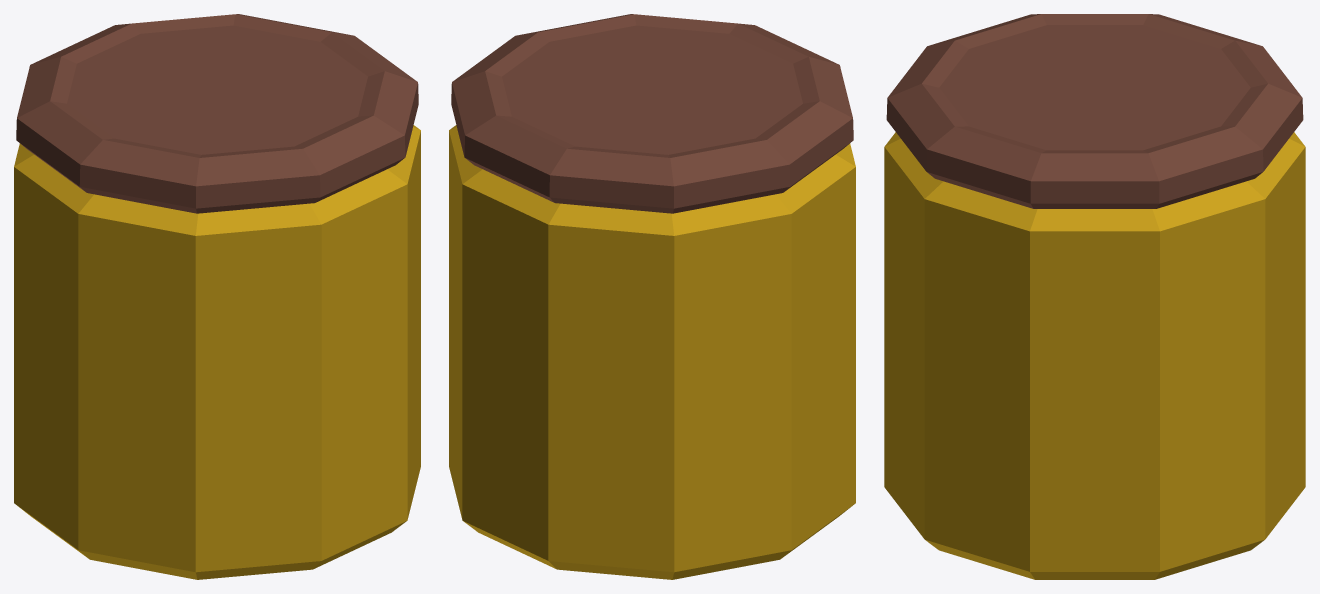
Rendered from HONEY.fbx.
The picture shows the model from 3 angles, left to right: view 1: azimuth 30°, elevation 25°; view 2: azimuth 150°, elevation 25°; view 3: azimuth 270°, elevation 25°; orthographic projection.
Parts seen in each view (by area): view 1: Cylinder; view 2: Cylinder; view 3: Cylinder.
Boxes of the visible parts, x1,y1,x2,y2 form: Cylinder: (14,14,420,579); Cylinder: (449,14,855,579); Cylinder: (884,14,1305,579).
Bounding box in the file's own units: 190 × 219 × 200.
